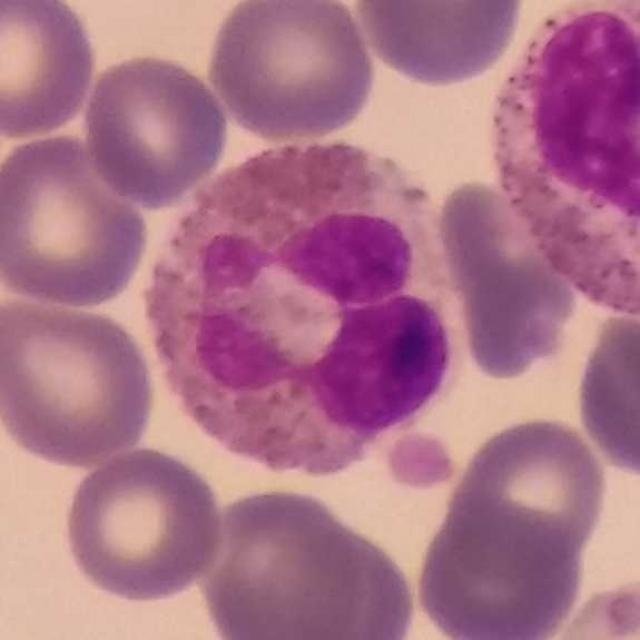Eosinophil: (144, 141, 468, 476), (474, 0, 640, 342)
Platelets: (386, 422, 456, 504), (584, 572, 640, 640)
RBC: (474, 1, 640, 334), (193, 483, 419, 639), (431, 169, 579, 372), (0, 290, 160, 469), (0, 128, 154, 311), (58, 442, 229, 605), (441, 411, 612, 572), (202, 0, 380, 145), (410, 496, 588, 640), (78, 48, 233, 209), (349, 0, 530, 89), (0, 0, 101, 140), (571, 307, 640, 481)
